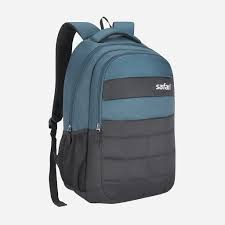backpack: (48, 16, 175, 206)
